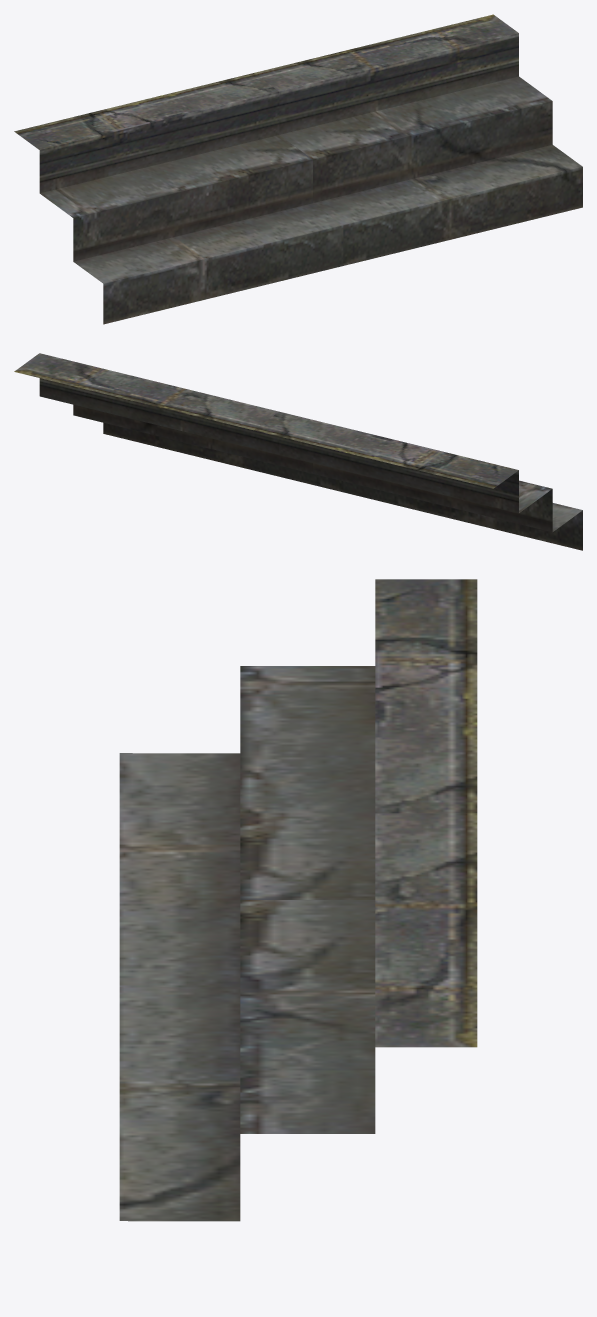
File: fb_yanwanggumu_rukoutitai.FBX
The picture shows the model from 3 angles, top to bottom: view 1: azimuth 30°, elevation 25°; view 2: azimuth 150°, elevation 25°; view 3: azimuth 270°, elevation 25°; orthographic projection. The views are drawn at different scales.
Parts seen in each view (by area): view 1: fb_yanwanggumu_rukoutitai; view 2: fb_yanwanggumu_rukoutitai; view 3: fb_yanwanggumu_rukoutitai.
Part boxes in pixels (x1=…): fb_yanwanggumu_rukoutitai: x1=14, y1=14, x2=582, y2=324; fb_yanwanggumu_rukoutitai: x1=14, y1=353, x2=582, y2=550; fb_yanwanggumu_rukoutitai: x1=119, y1=579, x2=477, y2=1221.
Size of the model in its own units: 421 by 107 by 136.
1 material, 1 textured.
